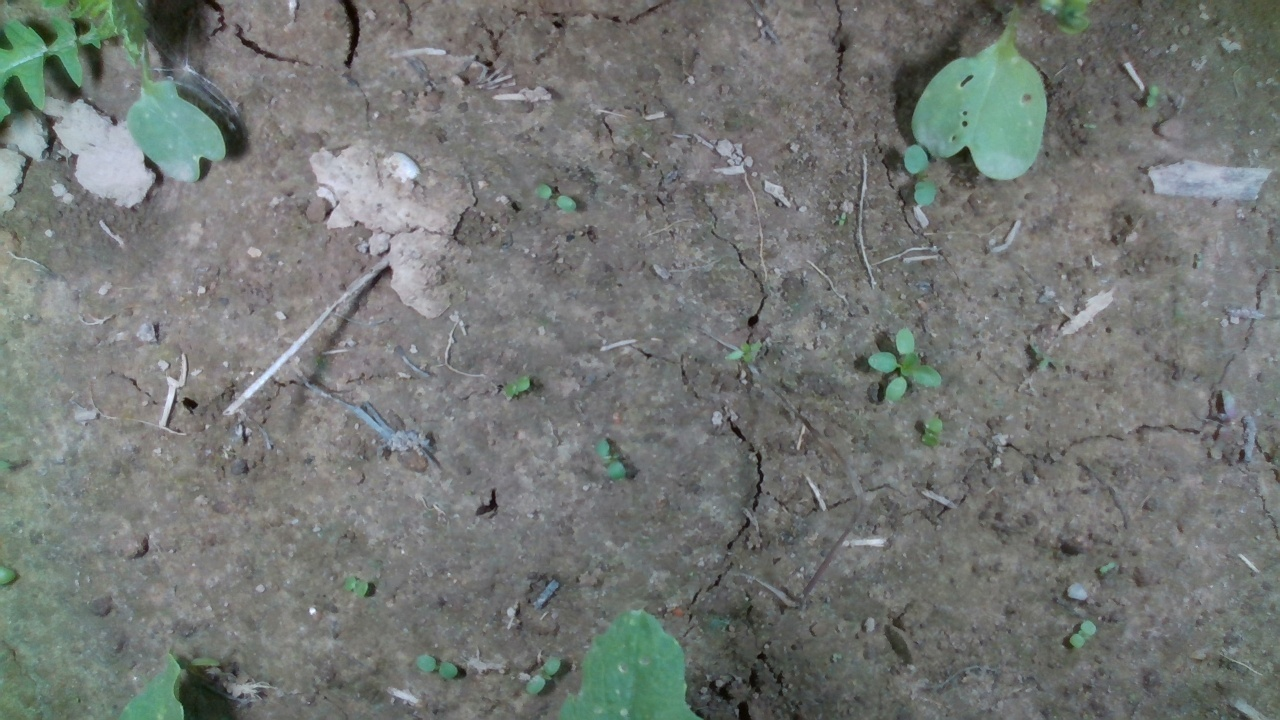weed: (865, 323, 943, 401), (525, 655, 562, 695), (594, 438, 626, 481), (533, 184, 578, 212), (414, 653, 458, 679), (723, 339, 763, 363), (1068, 618, 1097, 650), (502, 375, 530, 400), (342, 575, 370, 598), (1146, 83, 1160, 109), (1098, 559, 1117, 576), (838, 211, 846, 227)
